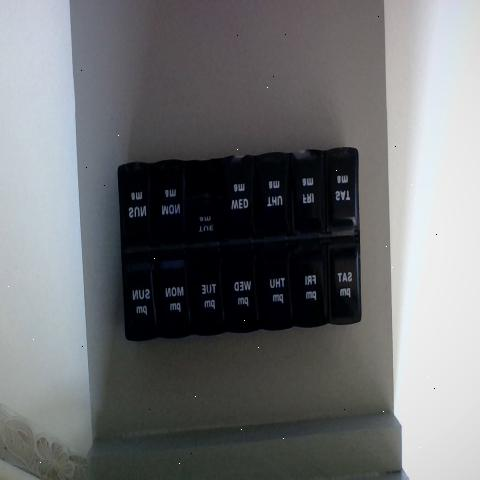FRI-am: (294, 152, 322, 229)
FRI-pm: (294, 246, 325, 326)
MON-am: (156, 164, 190, 245)
MON-pm: (158, 247, 194, 330)
Open: (191, 159, 222, 215)
PillBox: (94, 125, 380, 362)
SAT-am: (324, 146, 359, 228)
SAT-pm: (326, 240, 360, 323)
SUN-am: (123, 166, 155, 243)
SUN-pm: (124, 250, 156, 336)
THU-am: (257, 157, 290, 239)
THU-pm: (262, 244, 296, 331)
TUE-pm: (195, 253, 226, 334)
WED-am: (225, 156, 256, 238)
WED-pm: (228, 247, 264, 325)
